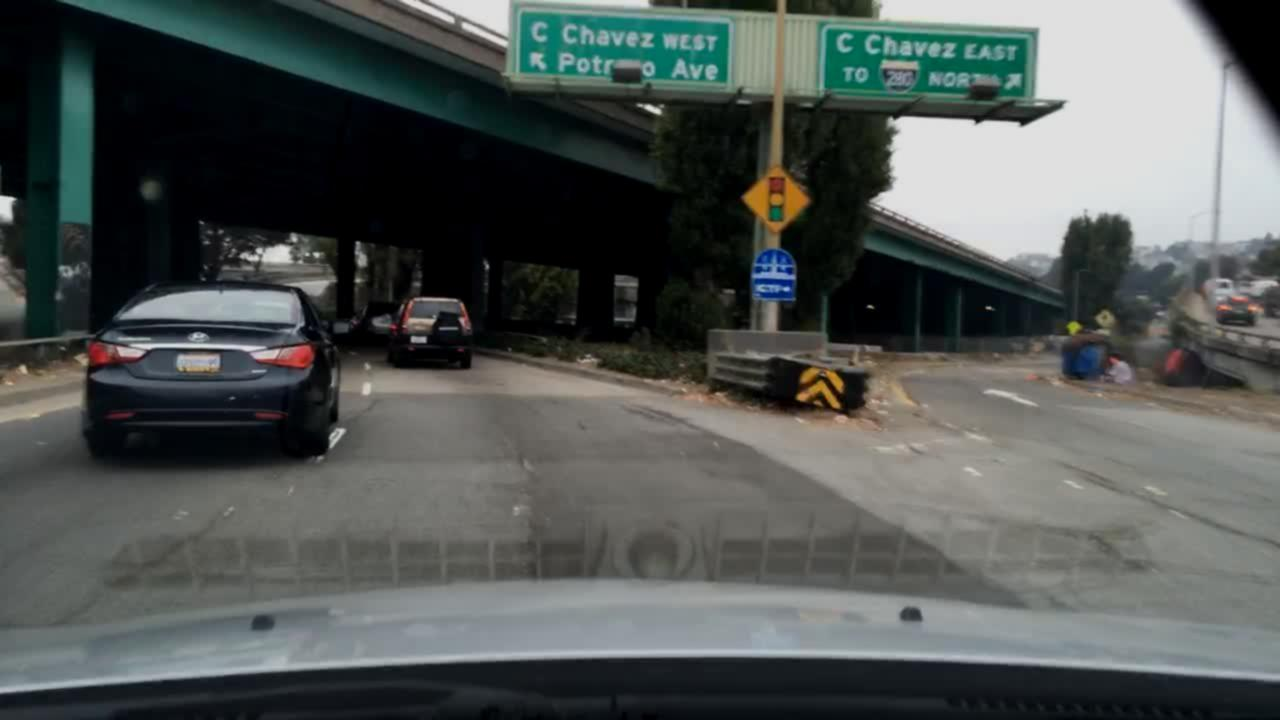Hyundai: (184, 328, 211, 348)
